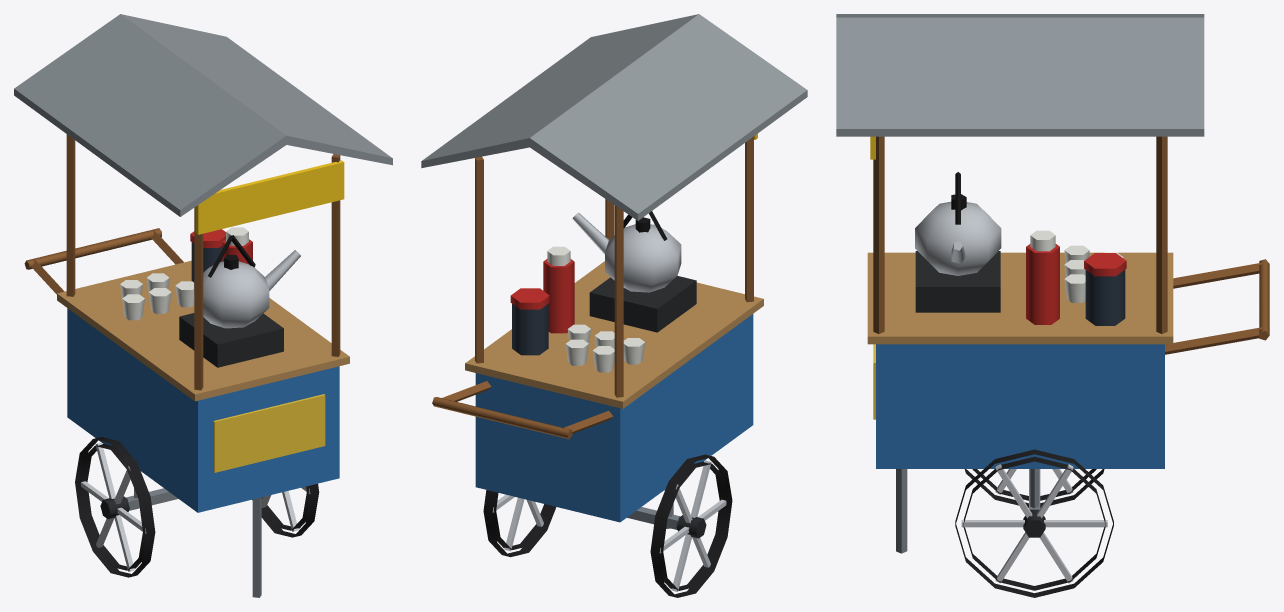
File: gerobak_bandrek.glb
3 renders of one model, left to right at view 1: azimuth 30°, elevation 25°; view 2: azimuth 150°, elevation 25°; view 3: azimuth 270°, elevation 25°, orthographic. The views are drawn at different scales.
Parts seen in each view (by area): view 1: body, wheel_r, wheel_l; view 2: body, wheel_r, wheel_l; view 3: body, wheel_l, wheel_r.
Boxes of the visible parts, x1,y1,x2,y2 form: body: [14, 14, 392, 597]; wheel_r: [75, 437, 155, 577]; wheel_l: [252, 483, 319, 537]; body: [421, 14, 807, 529]; wheel_r: [650, 454, 732, 597]; wheel_l: [483, 490, 556, 557]; body: [836, 14, 1269, 553]; wheel_l: [955, 449, 1113, 597]; wheel_r: [964, 469, 1104, 507].
Bounding box in the file's own units: 0.96 × 2.08 × 1.53.
